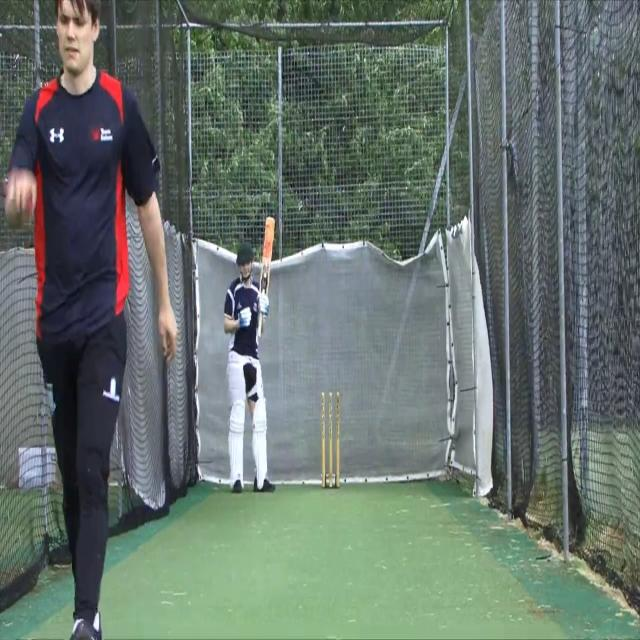batsman: (222, 214, 277, 495)
